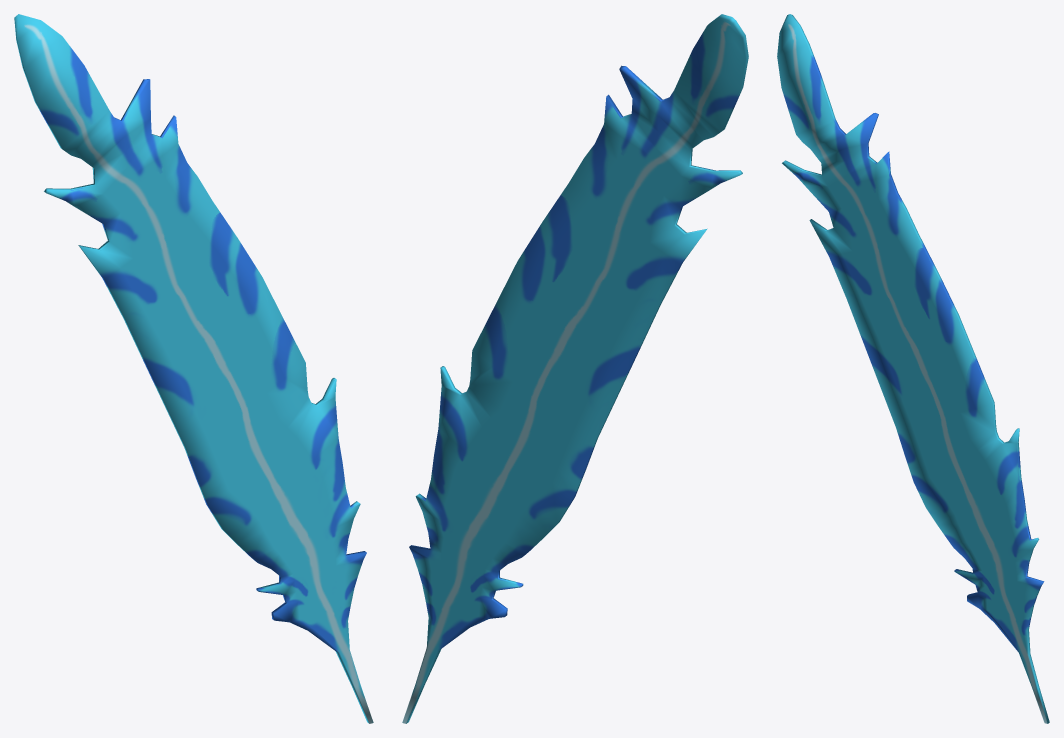
The model's file is Hopoo Feather.fbx.
3 views of the same model, side by side, from view 1: azimuth 30°, elevation 25°; view 2: azimuth 150°, elevation 25°; view 3: azimuth 330°, elevation 25° (orthographic). The views are drawn at different scales.
Visible parts, largest first — view 1: Hopoo Feather; view 2: Hopoo Feather; view 3: Hopoo Feather.
Boxes of the visible parts, x1,y1,x2,y2 form: Hopoo Feather: (14, 14, 373, 723); Hopoo Feather: (402, 14, 748, 723); Hopoo Feather: (777, 14, 1049, 723).
Bounding box in the file's own units: 1.8 × 3.89 × 0.1913.
Materials: 1 (1 with a texture image).
